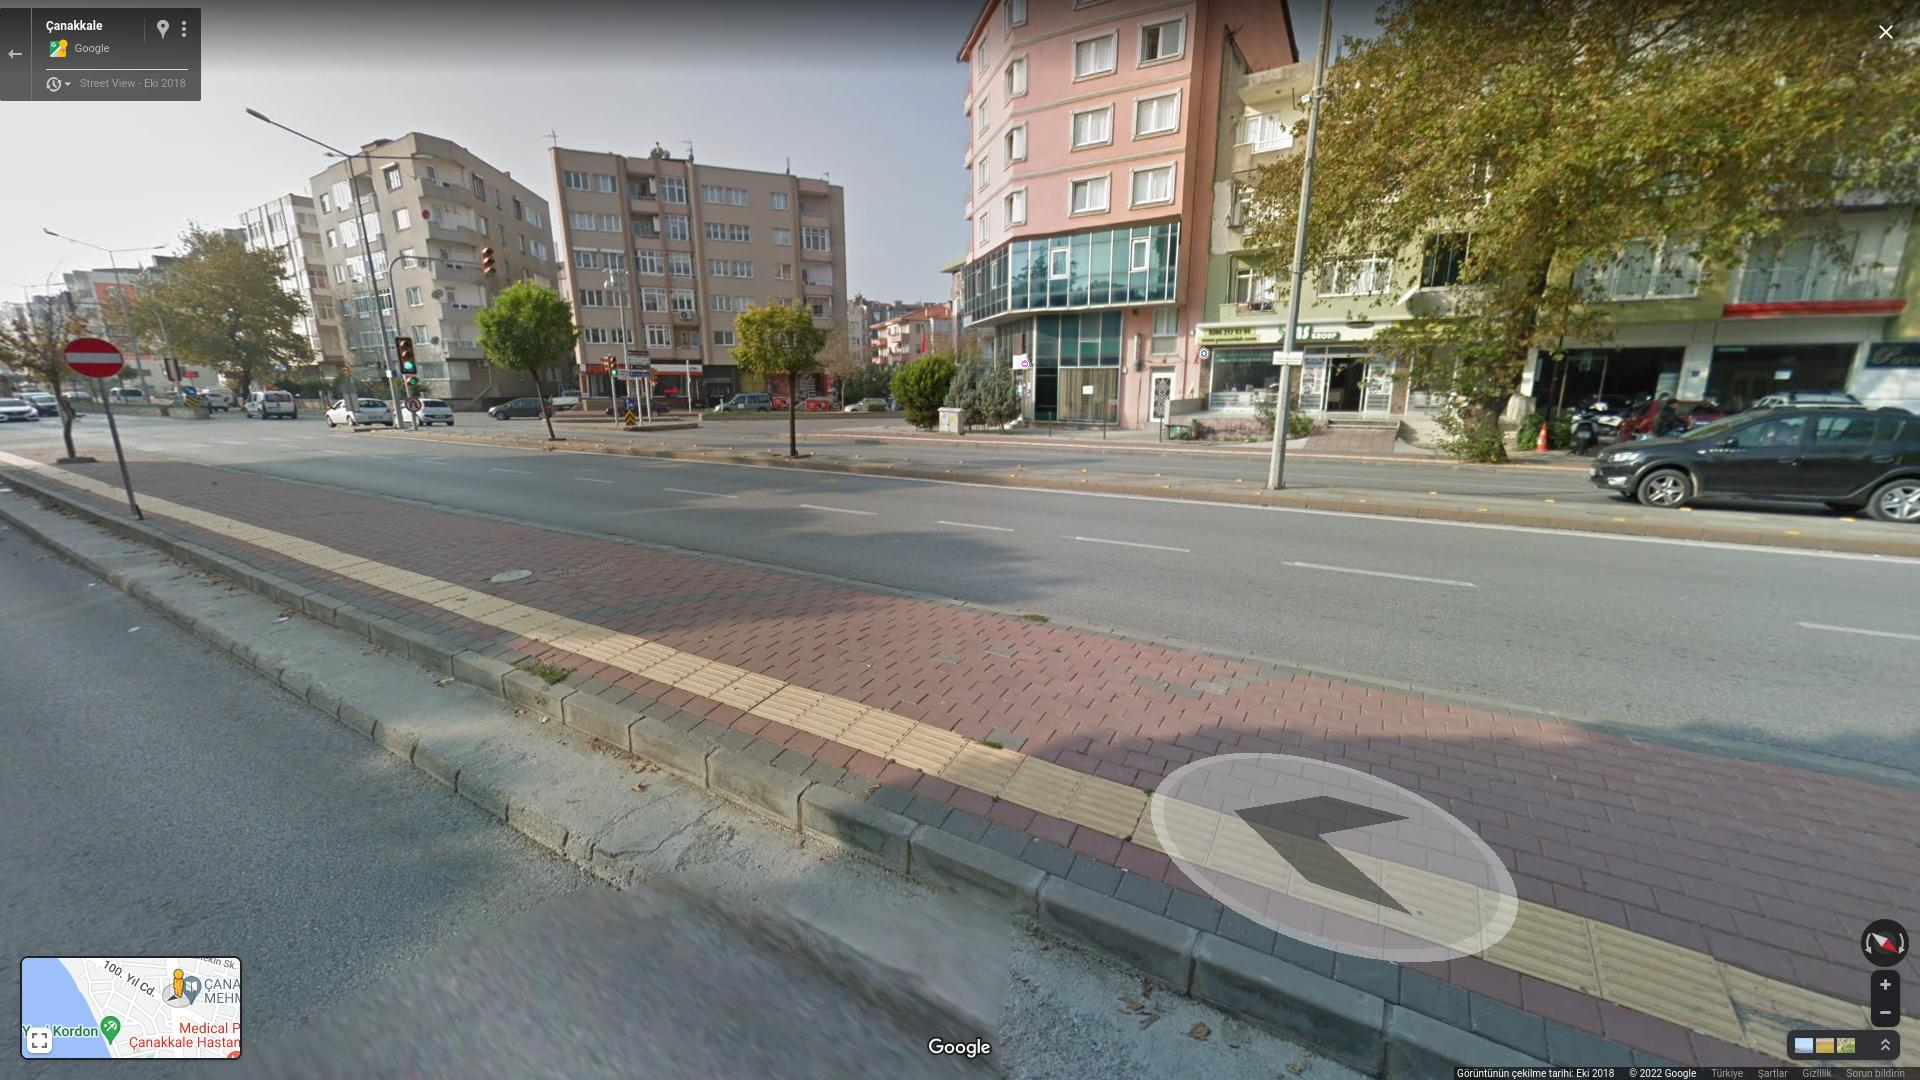greenlight: (396, 335, 417, 376), (609, 355, 618, 377)
